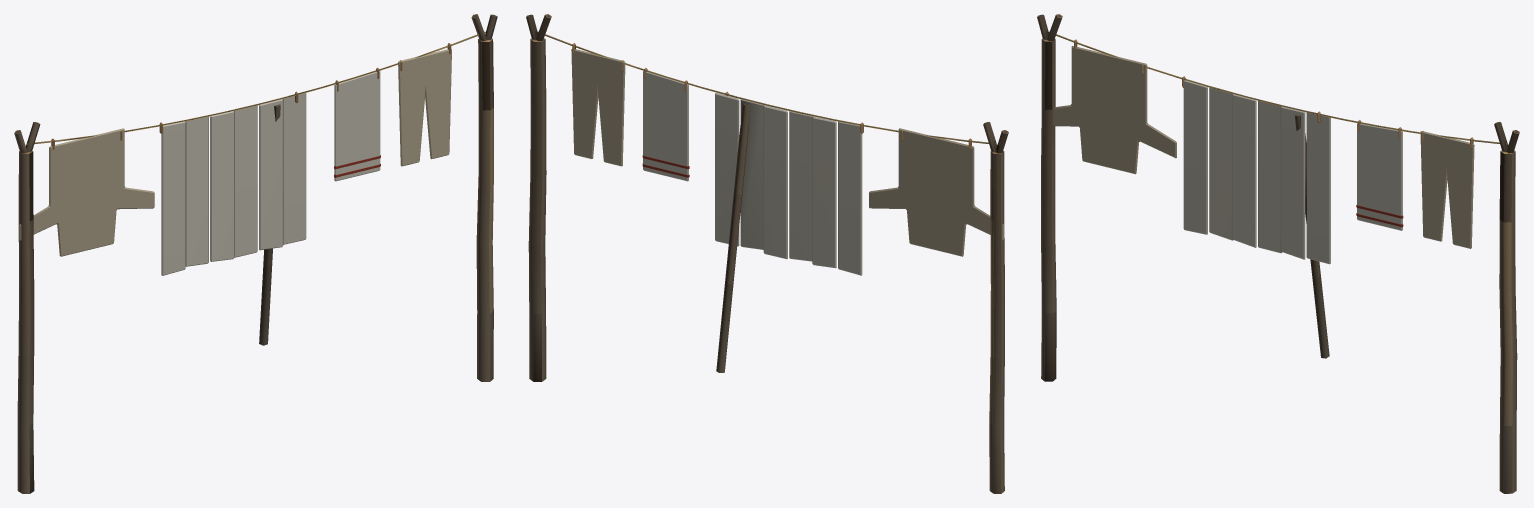
File: washing.glb
3 renders of one model, left to right at view 1: azimuth 30°, elevation 25°; view 2: azimuth 150°, elevation 25°; view 3: azimuth 330°, elevation 25°, orthographic.
Visible parts, largest first — view 1: cloth-001, log-001, wood-rope-001; view 2: cloth-001, log-001, wood-rope-001; view 3: cloth-001, log-001, wood-rope-001.
Part boxes in pixels (bbox=[...]): cloth-001: bbox=[19, 49, 451, 275]; log-001: bbox=[14, 14, 497, 493]; wood-rope-001: bbox=[26, 31, 485, 144]; cloth-001: bbox=[571, 49, 1003, 275]; log-001: bbox=[526, 14, 1008, 493]; wood-rope-001: bbox=[537, 31, 996, 144]; cloth-001: bbox=[1053, 46, 1474, 264]; log-001: bbox=[1037, 14, 1519, 493]; wood-rope-001: bbox=[1048, 31, 1507, 144].
Bounding box in the file's own units: 3.57 × 2.59 × 0.3379.
